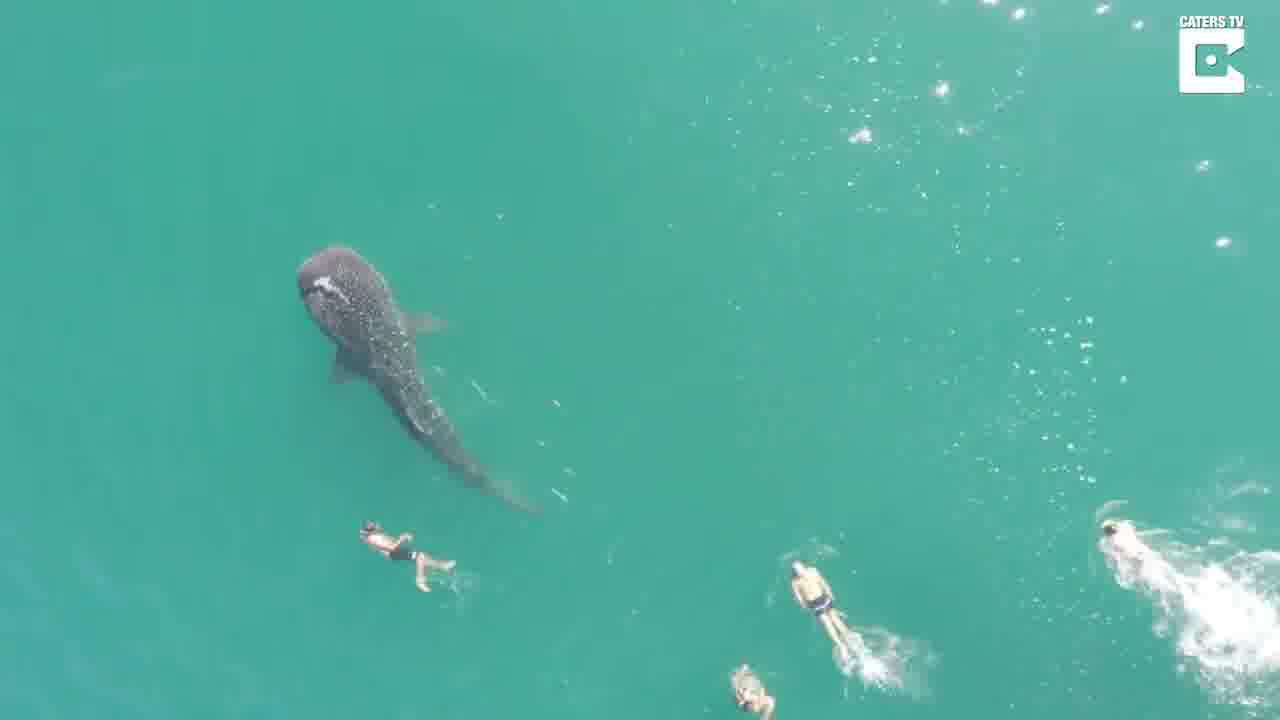human: (360, 517, 461, 597), (788, 549, 859, 652), (724, 661, 780, 719)
